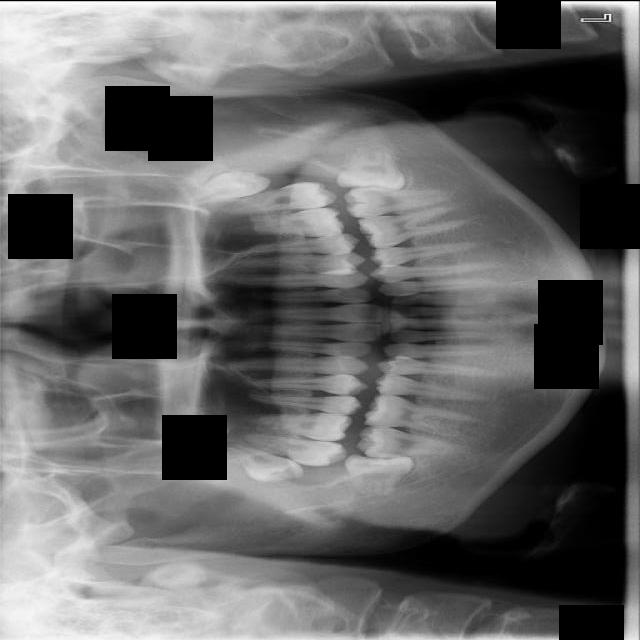3M ESPE Implant: (209, 431, 308, 495)
73: (620, 12, 626, 18)
BioHorizons Implant: (188, 178, 339, 219)
BioLife Implant: (160, 160, 274, 218)
Biomet 3i Implant: (334, 134, 412, 198)
Blue Sky Bio Implant: (342, 175, 457, 221)
Caries: (225, 429, 348, 470)
Implant: (355, 423, 466, 465)
Keystone Dental Implant: (344, 449, 417, 500)
